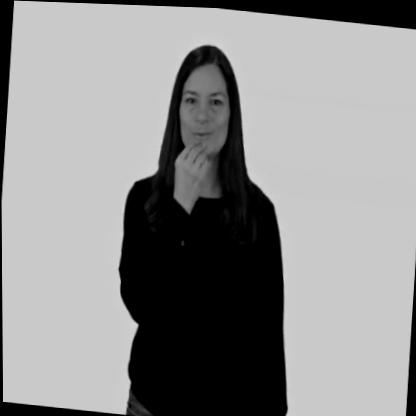Food: (105, 33, 318, 416)
